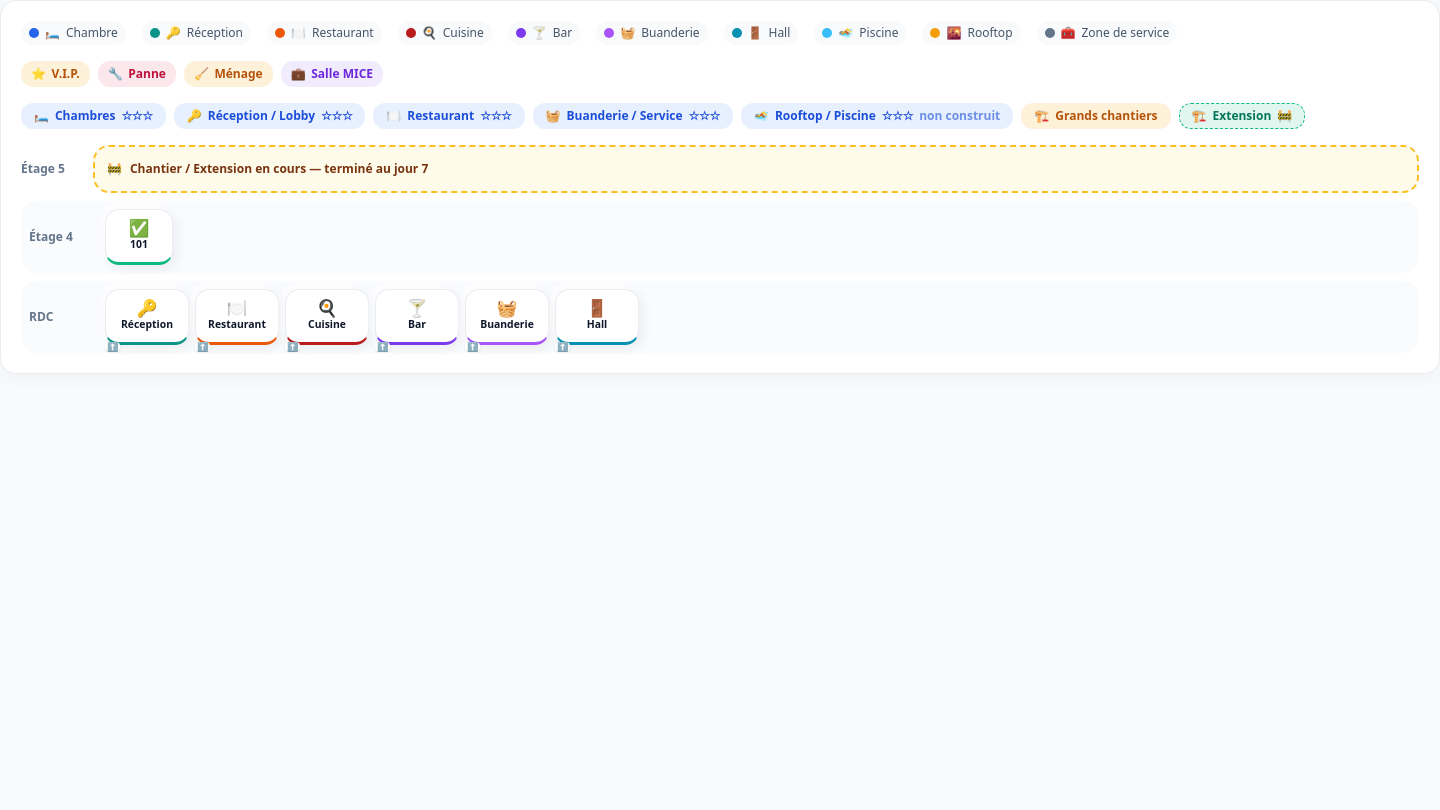
it: SchematicHotelView / opening the expansion modal › the chantier row opens it
This screenshot has width=1440, height=810.
Click the button "🚧 Chantier / Extension en cours — terminé au jour 7" at (276, 168), box [93,145,1419,193]
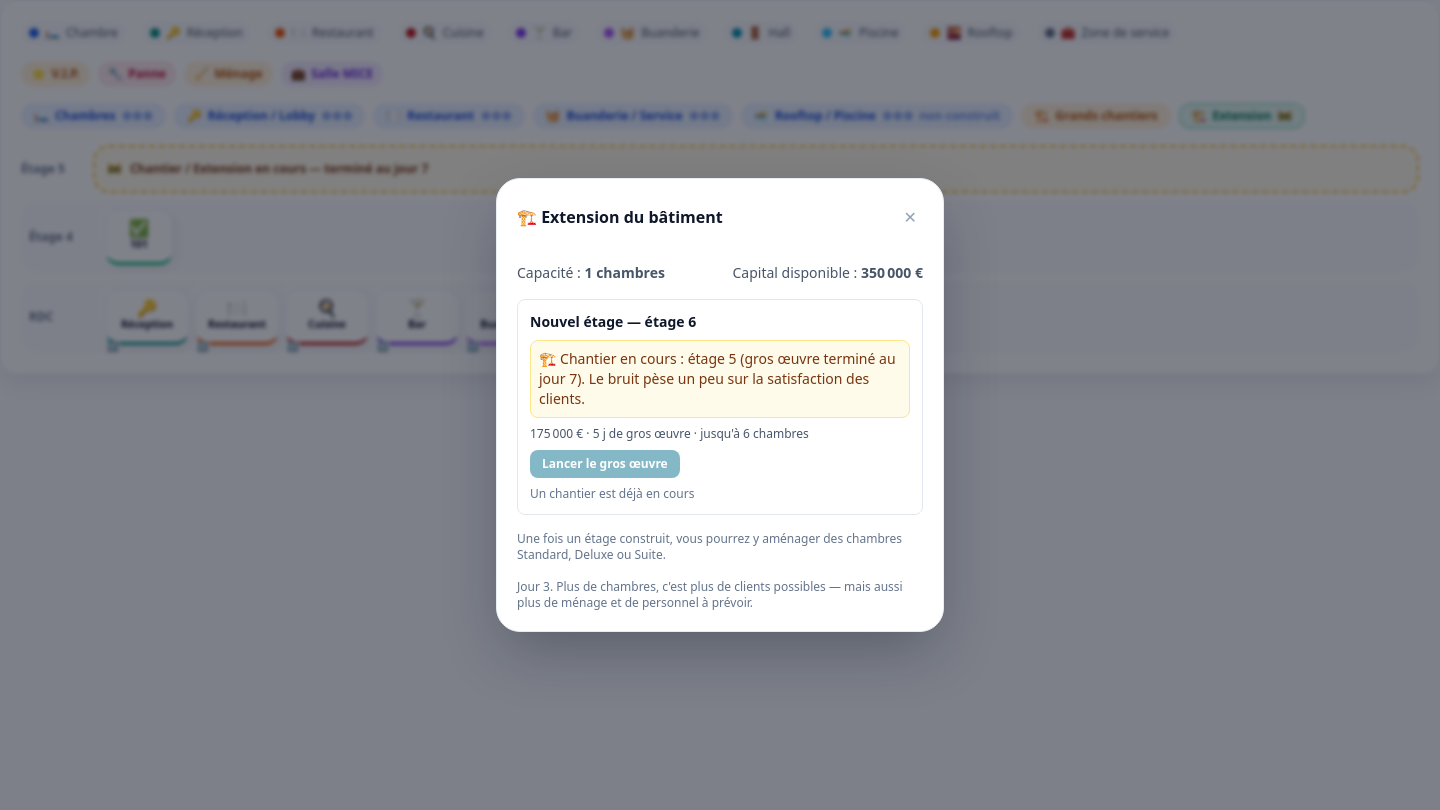
expect the text with test id "expansion-works" is shown: met, box [530,340,910,418]
